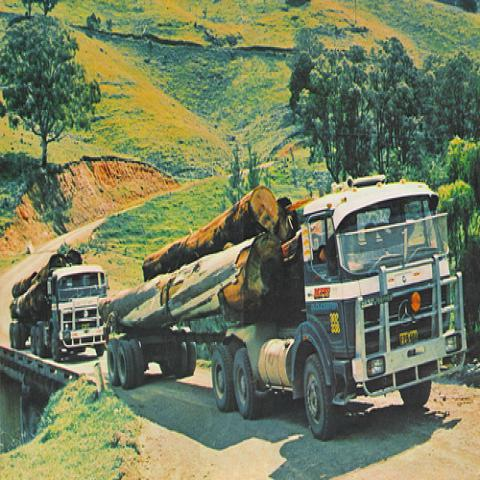truck: (106, 181, 467, 441), (7, 264, 108, 364)
